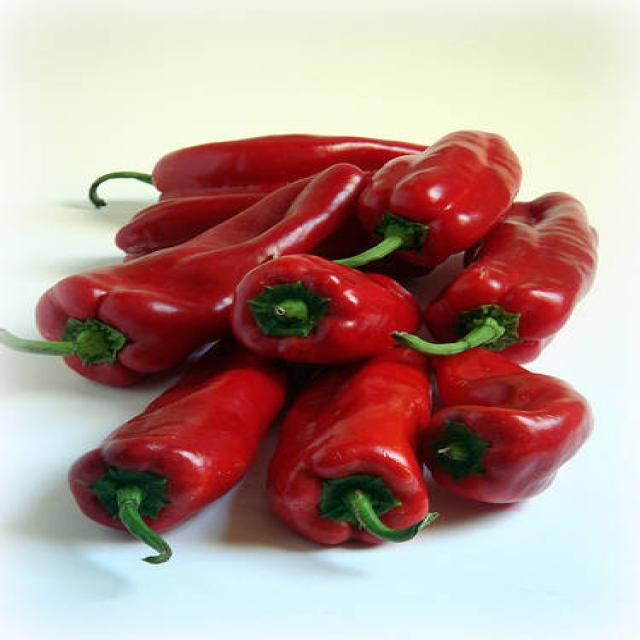Jalepeno: (9, 146, 366, 421), (98, 287, 292, 598), (251, 326, 466, 560), (378, 318, 595, 540), (202, 228, 466, 400), (324, 104, 539, 298), (76, 108, 407, 217)
